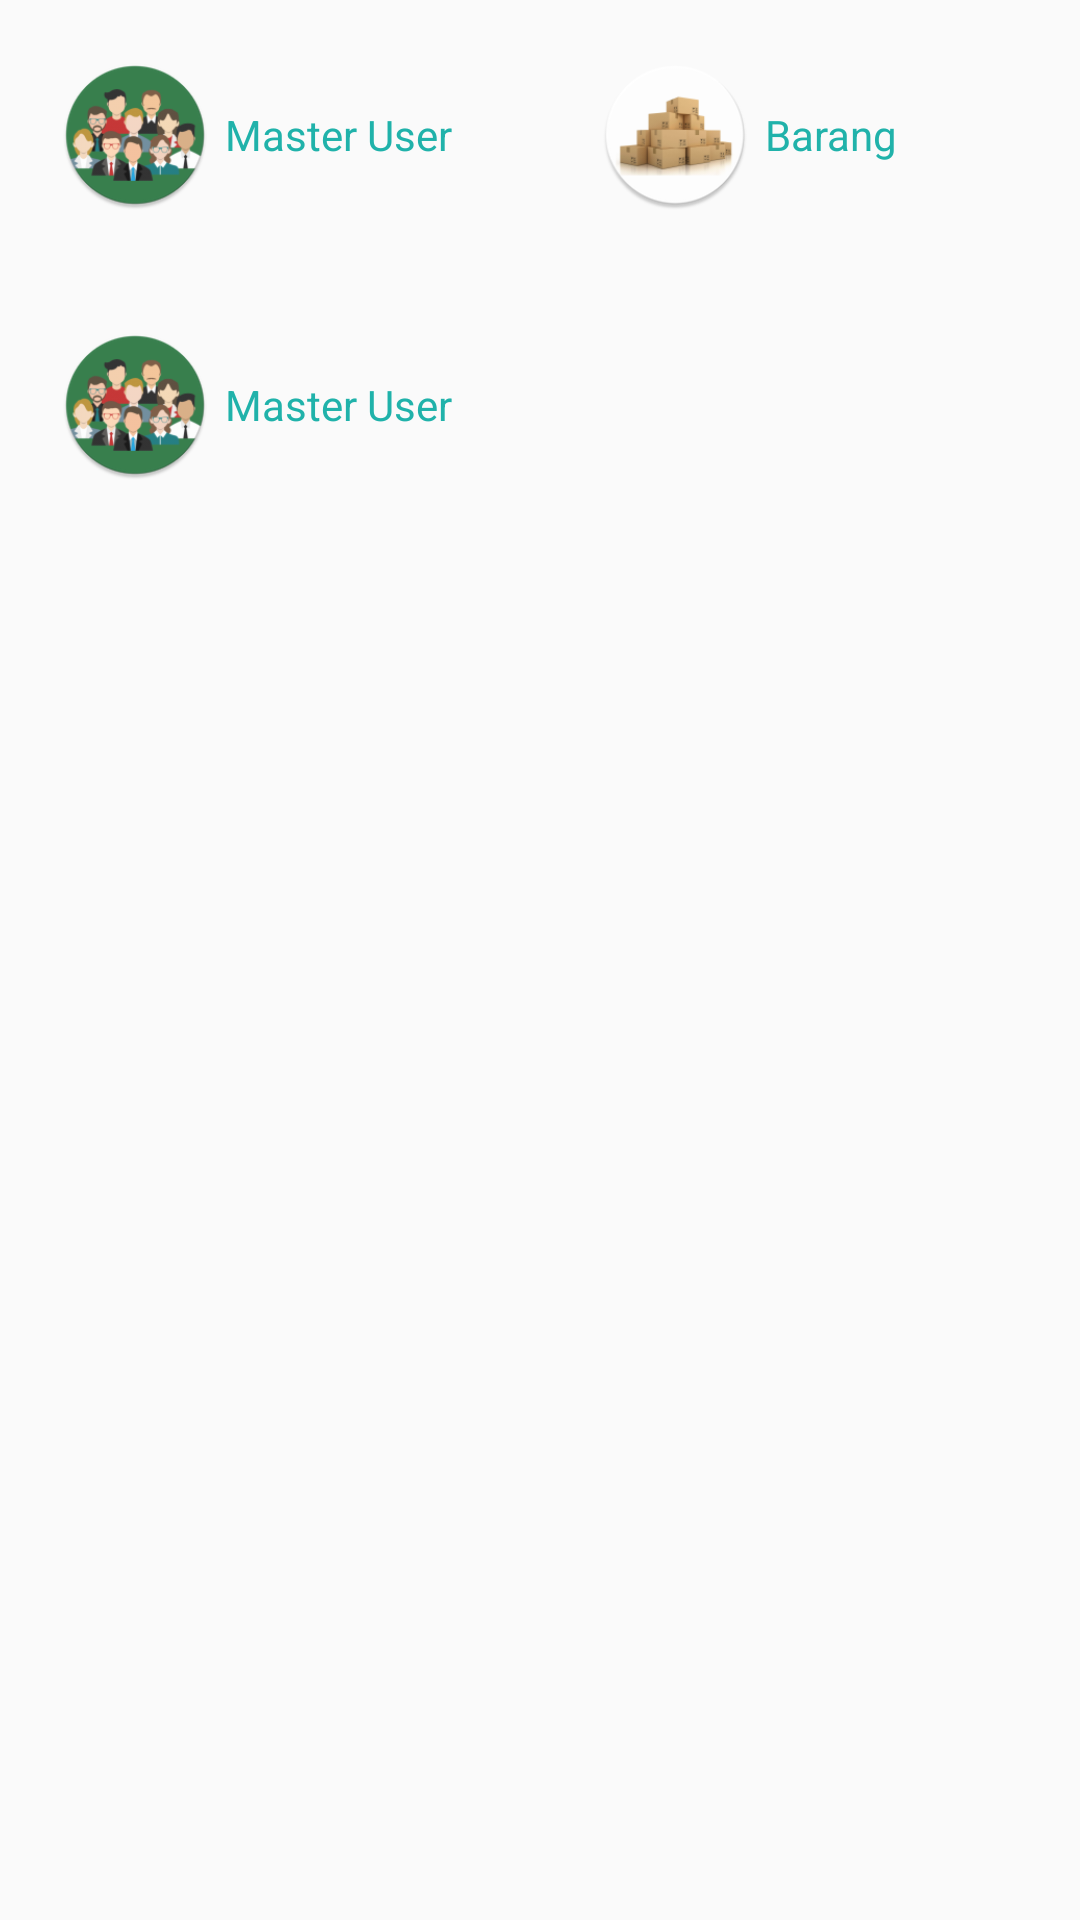

Named icons in this screenshot (1080×1920) and their bounding boxes, (x1, y1, x2, y2):
pegawai: (65, 65, 205, 207), (65, 335, 205, 477)
